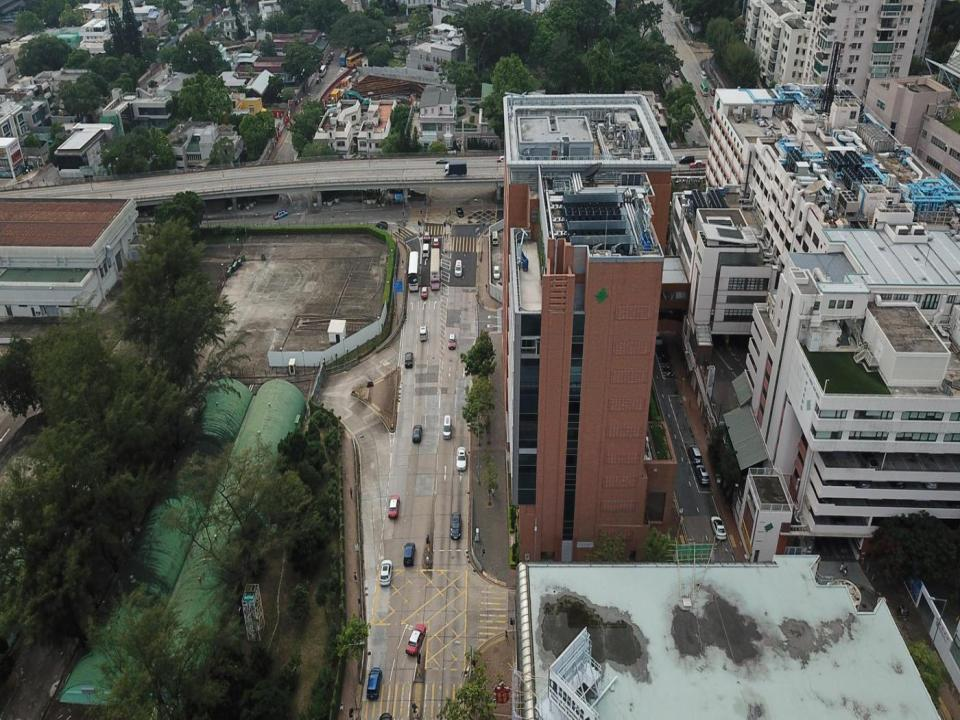bus: (428, 246, 441, 292), (408, 252, 420, 292), (700, 81, 709, 96)
car: (406, 622, 427, 655), (366, 668, 382, 701), (379, 559, 393, 587), (712, 513, 726, 541), (388, 493, 400, 520), (450, 512, 461, 539), (697, 465, 710, 486), (690, 444, 703, 465), (456, 446, 466, 470), (413, 426, 422, 443), (273, 210, 288, 220), (376, 220, 388, 232), (690, 160, 706, 169), (454, 259, 462, 276), (448, 333, 456, 349), (493, 265, 501, 280), (456, 204, 464, 218), (421, 285, 428, 299), (497, 154, 508, 162), (436, 159, 448, 165), (433, 236, 439, 246), (326, 55, 331, 64), (424, 231, 429, 238), (326, 59, 330, 67), (329, 52, 334, 58)
truck: (444, 160, 468, 177)
van: (404, 543, 415, 566), (443, 414, 452, 439), (405, 352, 414, 369), (679, 154, 694, 164), (318, 64, 328, 77), (420, 326, 427, 342), (492, 230, 498, 247), (422, 243, 428, 257), (701, 70, 706, 80), (316, 77, 320, 83)
